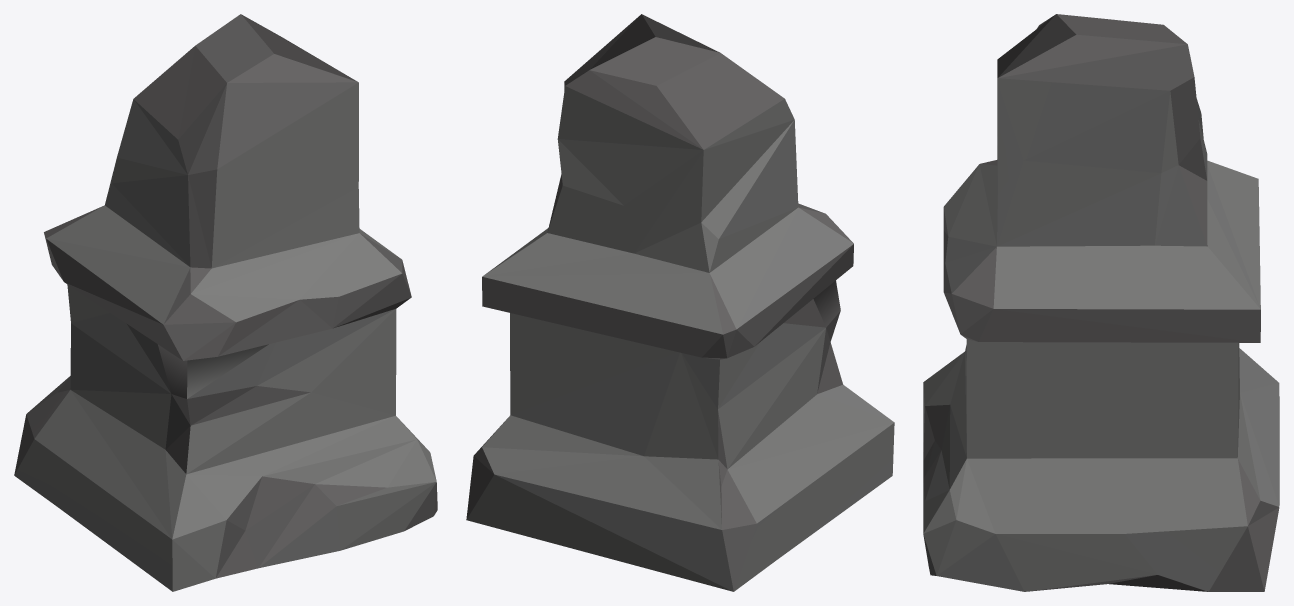
The model's file is SM_Env_Pillar_Broken_01.glb.
3 renders of one model, left to right at view 1: azimuth 30°, elevation 25°; view 2: azimuth 150°, elevation 25°; view 3: azimuth 270°, elevation 25°, orthographic. The views are drawn at different scales.
Visible parts, largest first — view 1: SM_Env_Pillar_Broken_01; view 2: SM_Env_Pillar_Broken_01; view 3: SM_Env_Pillar_Broken_01.
Part boxes in pixels (x1,y1,x2,y2): SM_Env_Pillar_Broken_01: [14, 14, 437, 591]; SM_Env_Pillar_Broken_01: [466, 14, 894, 591]; SM_Env_Pillar_Broken_01: [923, 14, 1279, 591].
Size of the model in its own units: 0.00623 by 0.00959 by 0.0062.
Materials: 1 (1 with a texture image).
